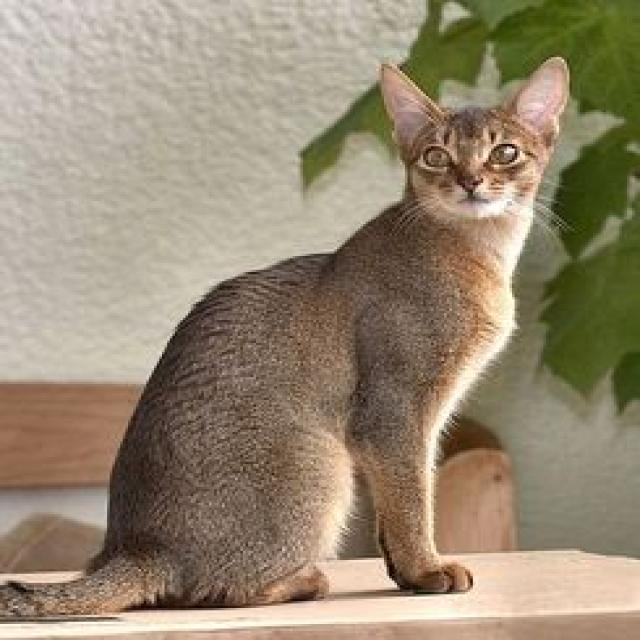Abyssinian: (376, 55, 567, 217)
